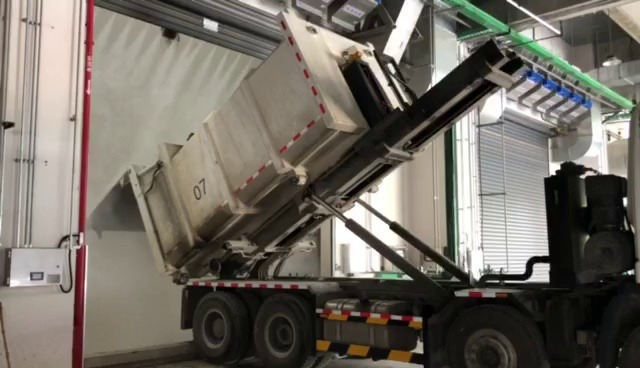dust: (88, 101, 195, 350)
truck: (119, 10, 640, 368)
